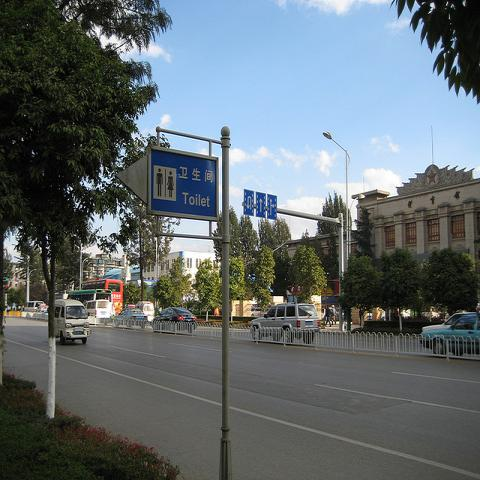bus: (79, 274, 127, 316), (66, 289, 119, 321)
car: (423, 314, 479, 357), (250, 304, 320, 331), (422, 312, 477, 334), (151, 306, 198, 323), (114, 308, 147, 328), (34, 305, 49, 313)
truck: (54, 296, 89, 344), (24, 301, 44, 312), (144, 303, 156, 316)
